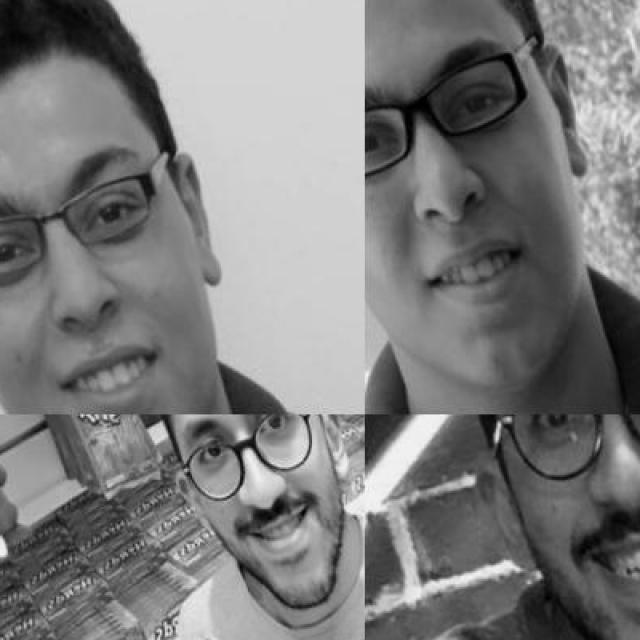Glasses: (365, 11, 576, 213), (0, 115, 211, 307), (162, 414, 358, 514), (485, 414, 640, 509)
